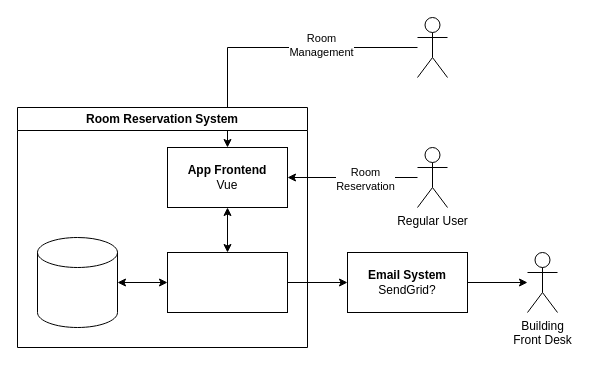
Some shapes in this 589 by 366 pixel diagram are drawn without their labels. Each missing label, with the centre of its shape:
"App Backend Spring, Java" belongs at pixel 227 282.
"Building Administrator" belongs at pixel 432 47.
"Database NoSQL, MongoDB" belongs at pixel 77 282.
